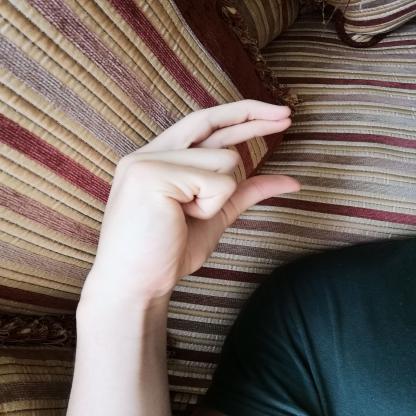DHELL: (79, 91, 315, 303)
